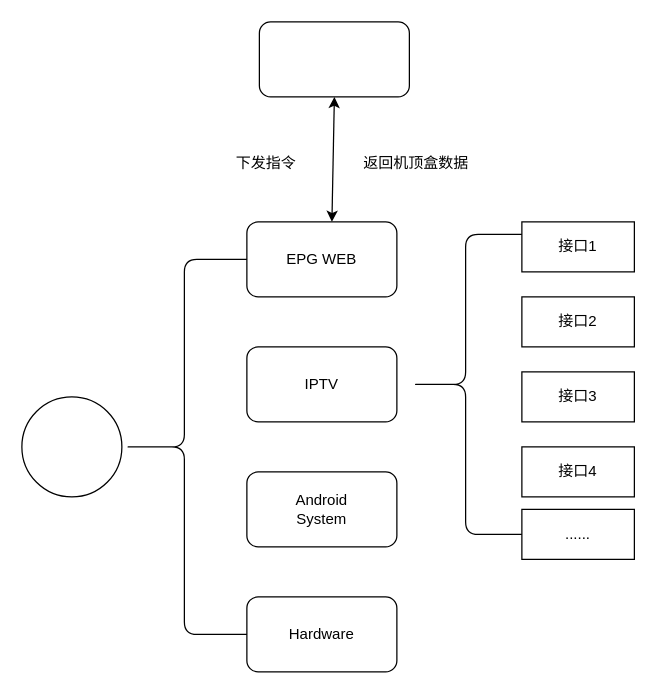
Image size: 656x694. Some labels were removed from this diagram. Each missing label, with the centre of its shape:
"ISEE" belongs at (333,59).
"STB" belongs at (71,446).
